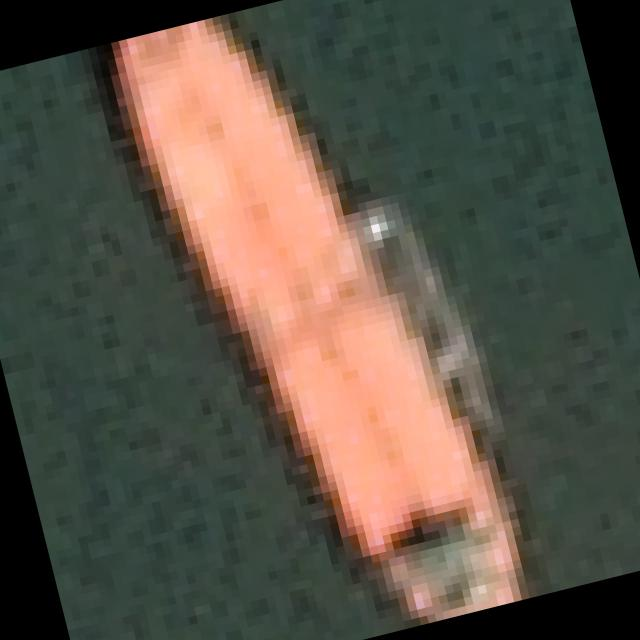ship: (7, 0, 592, 640)
